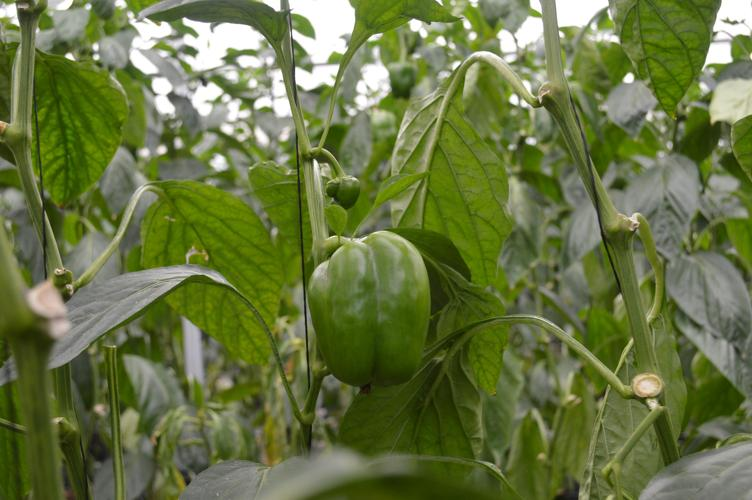BellPepper: (305, 228, 434, 390)
